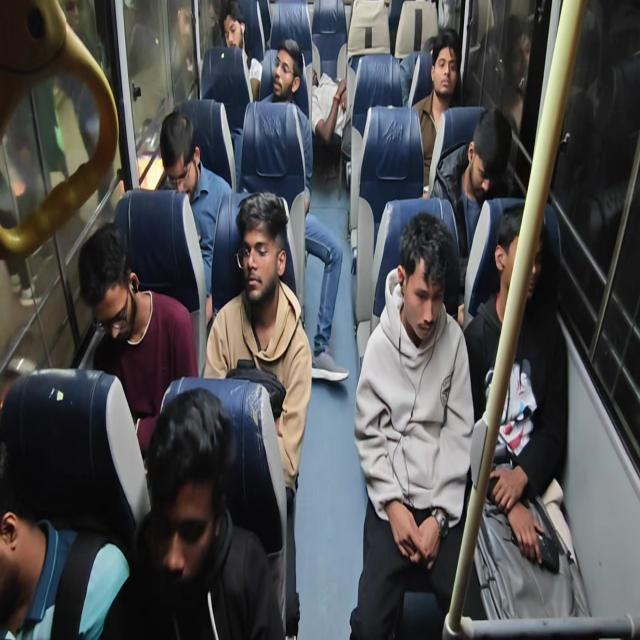person: (133, 426, 234, 640), (71, 233, 146, 396), (217, 192, 291, 330), (0, 435, 43, 632), (489, 230, 551, 321), (462, 107, 518, 204), (170, 92, 208, 219), (386, 232, 442, 313), (313, 56, 352, 147), (424, 34, 466, 88), (275, 33, 299, 88), (224, 5, 238, 54)
